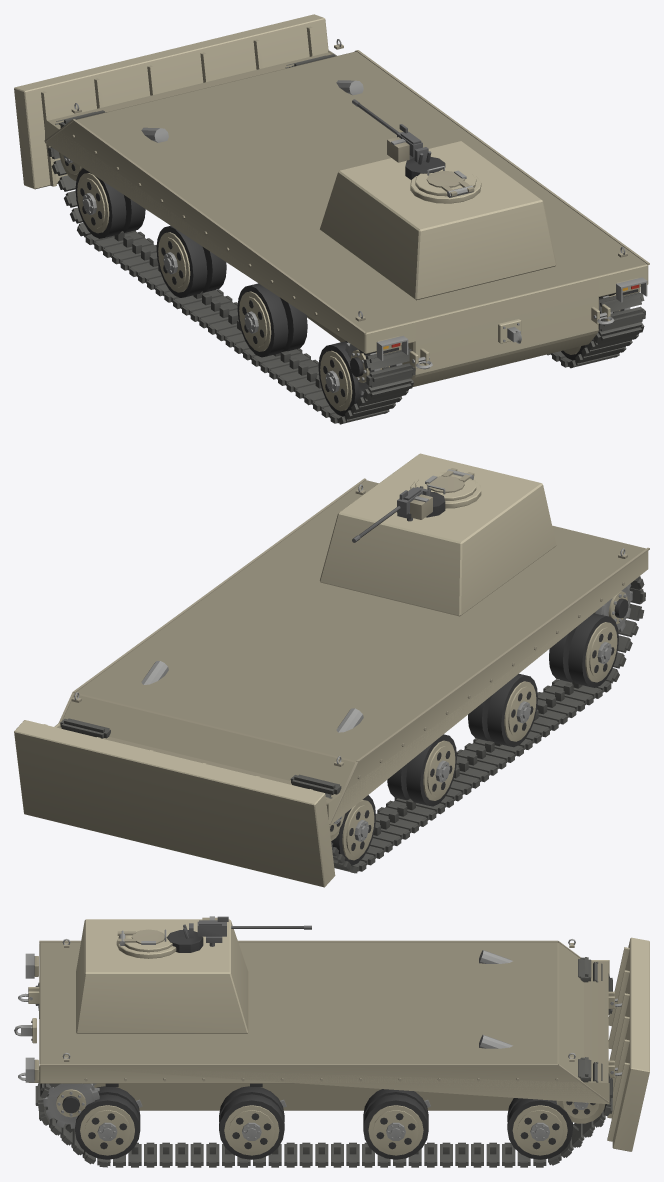
The model's file is usa_eng_ace.glb.
The picture shows the model from 3 angles, top to bottom: view 1: azimuth 30°, elevation 25°; view 2: azimuth 150°, elevation 25°; view 3: azimuth 270°, elevation 25°; orthographic projection. The views are drawn at different scales.
Visible parts, largest first — view 1: body, barrel; view 2: body, barrel; view 3: body, barrel, turret.
Boxes of the visible parts, left/top/right/bottom form: body: left=14, top=14, right=649, bottom=424; barrel: left=352, top=99, right=431, bottom=164; body: left=14, top=453, right=649, bottom=887; barrel: left=352, top=486, right=432, bottom=542; body: left=14, top=919, right=649, bottom=1167; barrel: left=183, top=916, right=311, bottom=946; turret: left=166, top=930, right=203, bottom=952.
Bounding box in the file's own units: 3.4 × 2.31 × 6.98.
